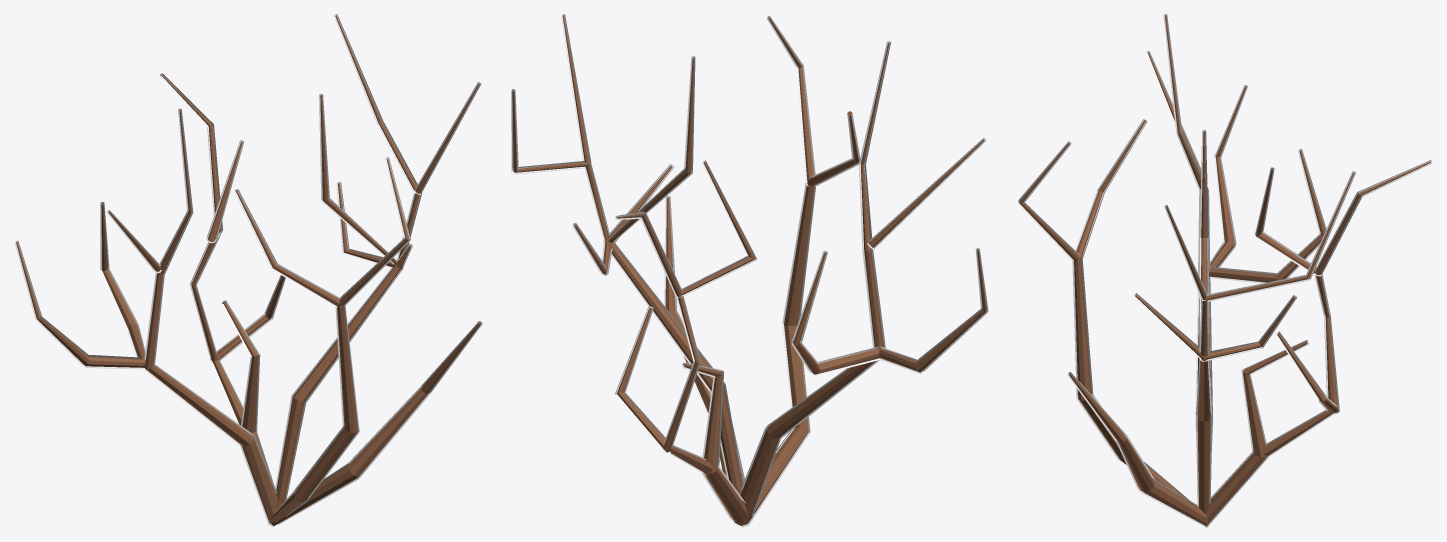
Rendered from small-tree.glb.
The picture shows the model from 3 angles, left to right: view 1: azimuth 30°, elevation 25°; view 2: azimuth 150°, elevation 25°; view 3: azimuth 270°, elevation 25°; orthographic projection. The views are drawn at different scales.
Visible parts, largest first — view 1: smallTree; view 2: smallTree; view 3: smallTree.
Boxes of the visible parts, x1=… form: smallTree: x1=14, y1=14, x2=482, y2=527; smallTree: x1=511, y1=14, x2=988, y2=527; smallTree: x1=1017, y1=14, x2=1432, y2=527.
Size of the model in its own units: 1.45 by 1.5 by 1.24.
